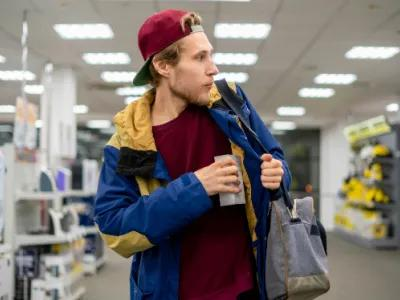shoplifting: (106, 21, 347, 293)
